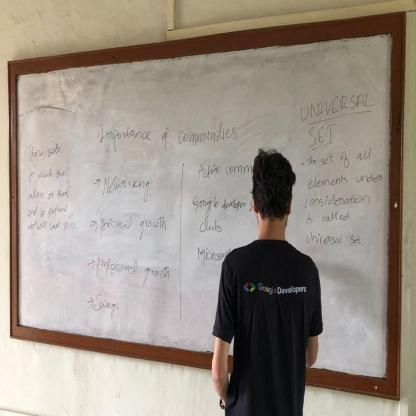Handwritten text: (97, 110, 238, 155), (295, 82, 377, 121), (94, 250, 171, 291), (97, 211, 170, 242), (98, 169, 154, 207), (186, 189, 263, 216), (193, 154, 264, 183), (299, 146, 377, 170), (306, 168, 385, 191), (302, 226, 364, 254), (189, 242, 244, 272), (303, 188, 373, 209), (27, 217, 77, 240), (25, 134, 62, 164), (24, 167, 76, 186), (308, 115, 336, 149), (300, 207, 350, 226), (23, 199, 71, 218), (93, 294, 120, 327), (23, 187, 72, 205), (197, 210, 226, 235)
Lecturer: (206, 147, 323, 410)
Whiteboard: (10, 21, 394, 383)
